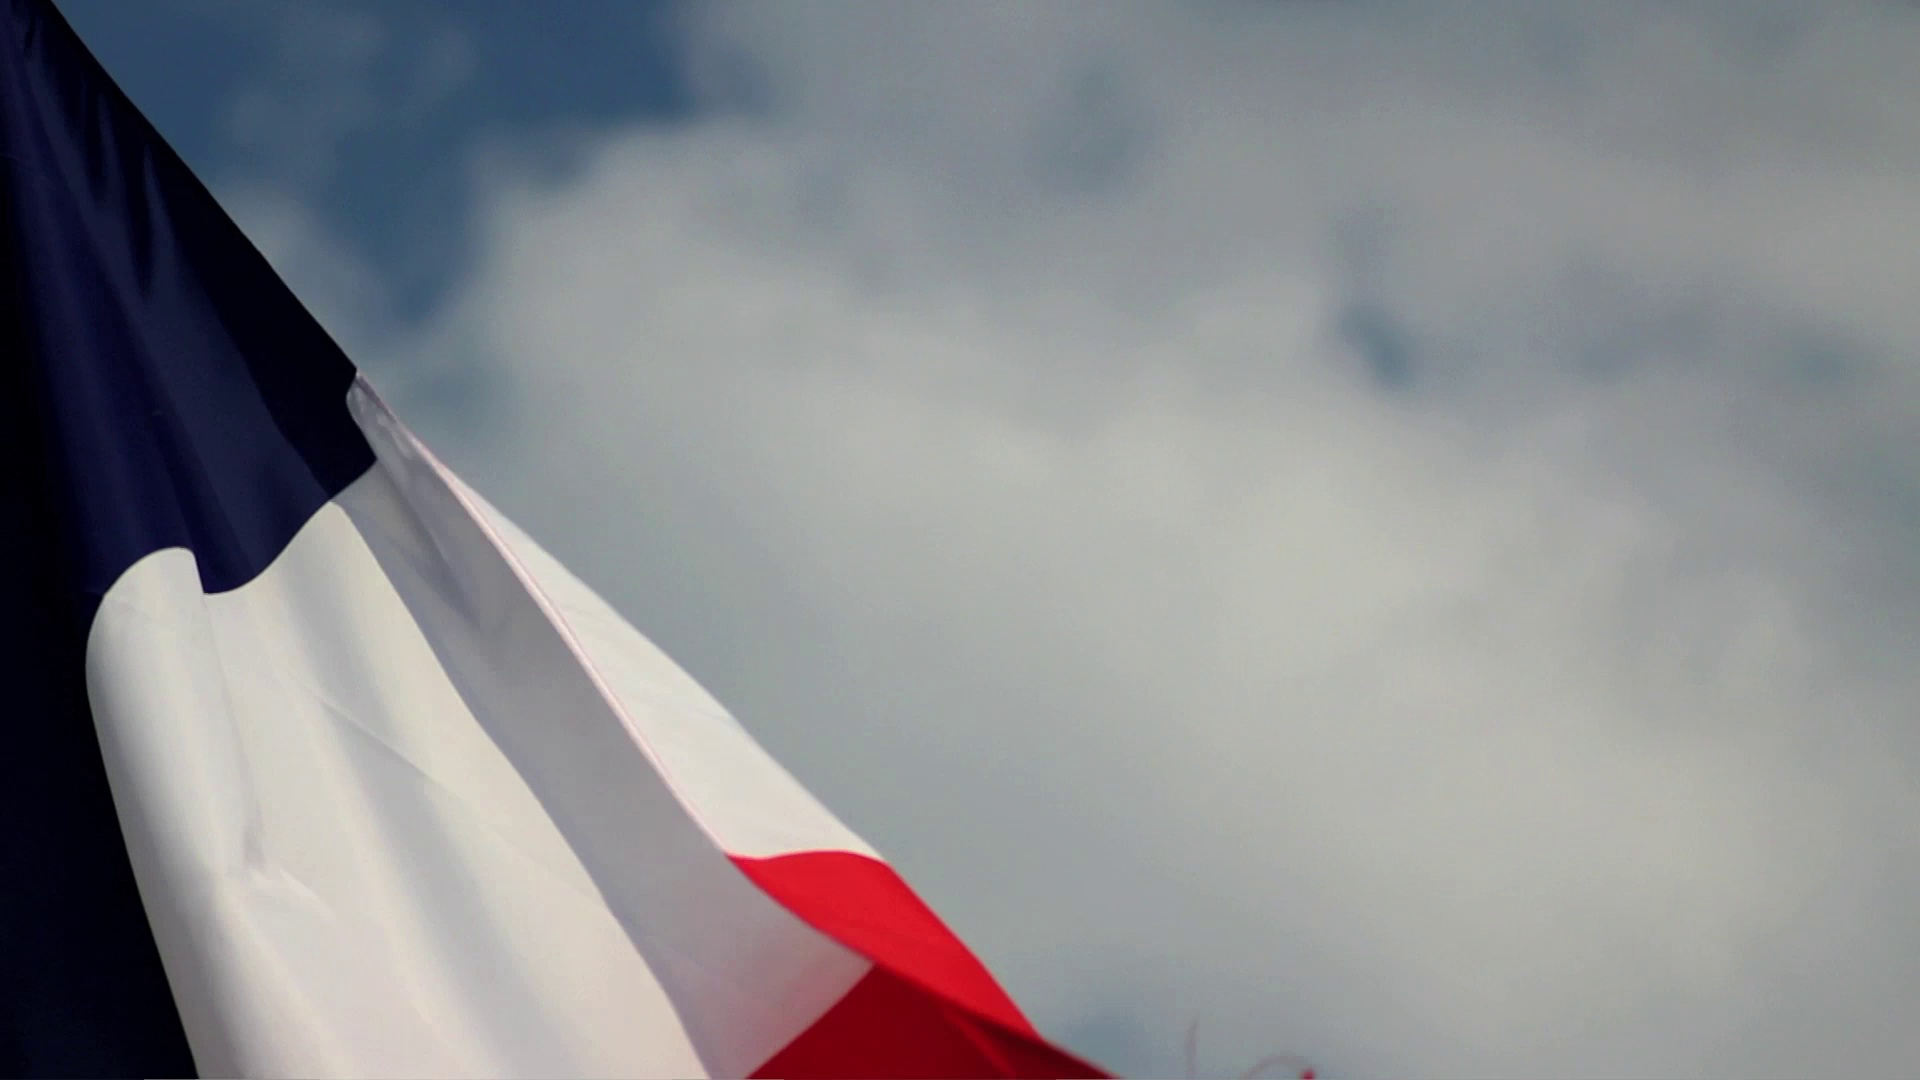French Flag: (1, 5, 1113, 1076)
